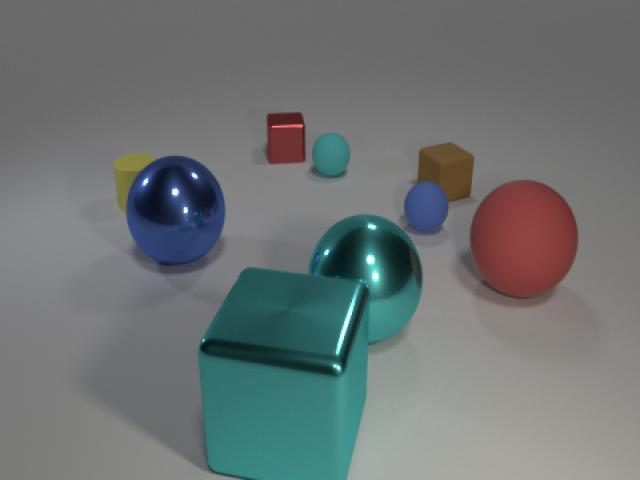cylinder: (110, 146, 160, 216)
round ball: (304, 207, 426, 350), (467, 175, 581, 304), (126, 151, 228, 266), (402, 177, 449, 234), (310, 130, 351, 179)
